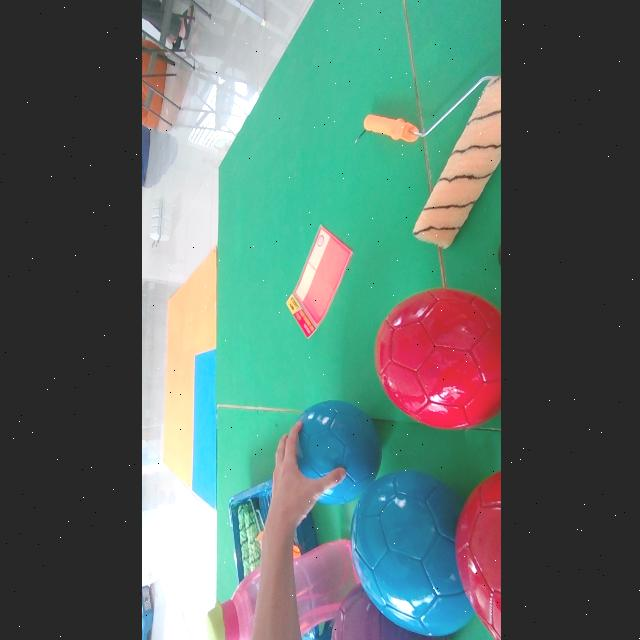B: (349, 471, 472, 637), (296, 402, 380, 505)
P: (330, 585, 441, 640)
R: (374, 288, 500, 428), (454, 472, 500, 640)
